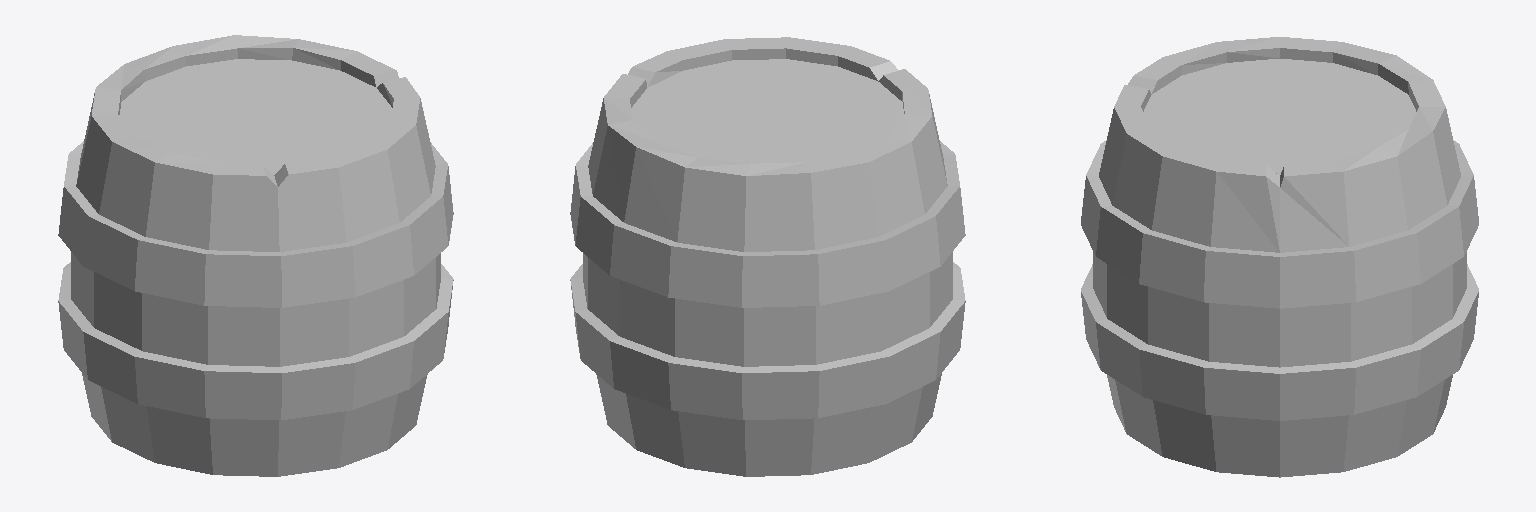
Rendered from barrel.obj.
The picture shows the model from 3 angles: view 1: azimuth 30°, elevation 25°; view 2: azimuth 150°, elevation 25°; view 3: azimuth 270°, elevation 25°; orthographic projection.
Visible parts, largest first — view 1: Barrel_Cylinder; view 2: Barrel_Cylinder; view 3: Barrel_Cylinder.
Part boxes in pixels (bbox=[...]): Barrel_Cylinder: bbox=[58, 35, 453, 476]; Barrel_Cylinder: bbox=[570, 37, 965, 476]; Barrel_Cylinder: bbox=[1081, 37, 1478, 477].
Size of the model in its own units: 2.4 by 2.02 by 2.4.